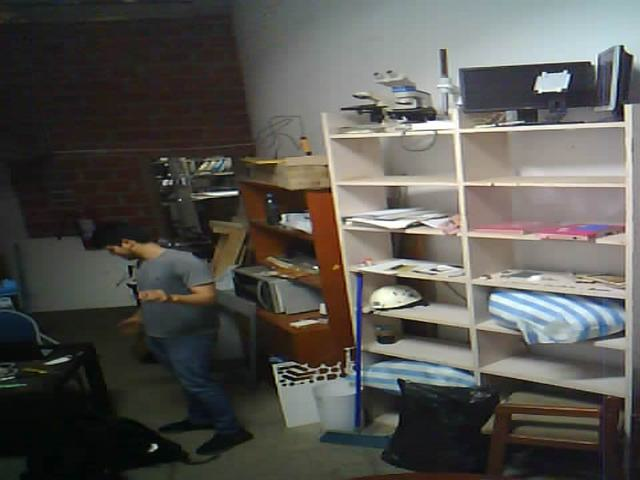person: (57, 198, 271, 479)
